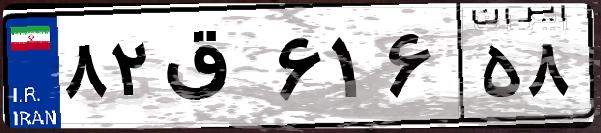1: (330, 28, 385, 110)
2: (110, 28, 158, 98)
5: (475, 38, 525, 113)
6: (270, 28, 330, 110), (385, 28, 445, 110)
8: (57, 26, 110, 100), (525, 38, 570, 115)
ق: (158, 20, 270, 120)
